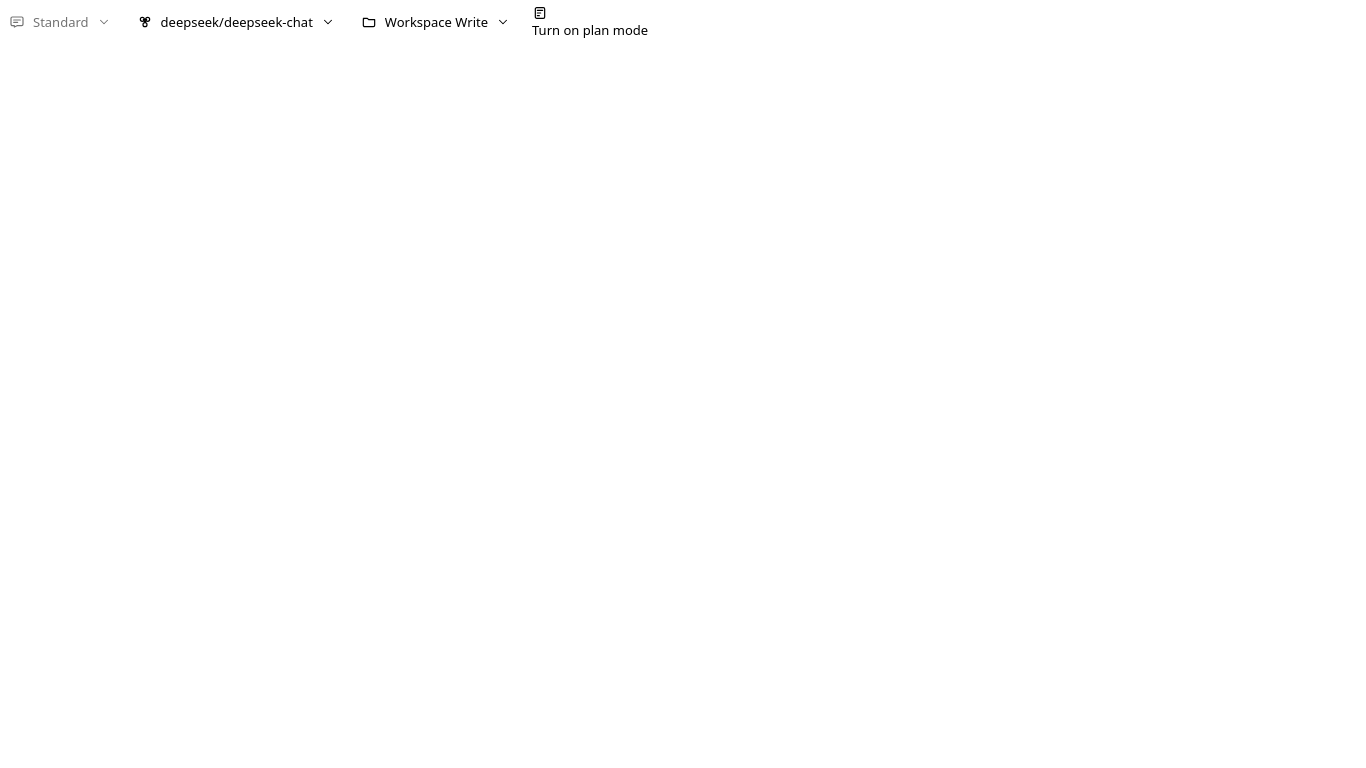
Test: SessionControls › dismisses the full-access prompt on Escape without touching the permission
Click the button with aria-label "Access: Workspace Write" at (435, 22), box [352,8,519,37]
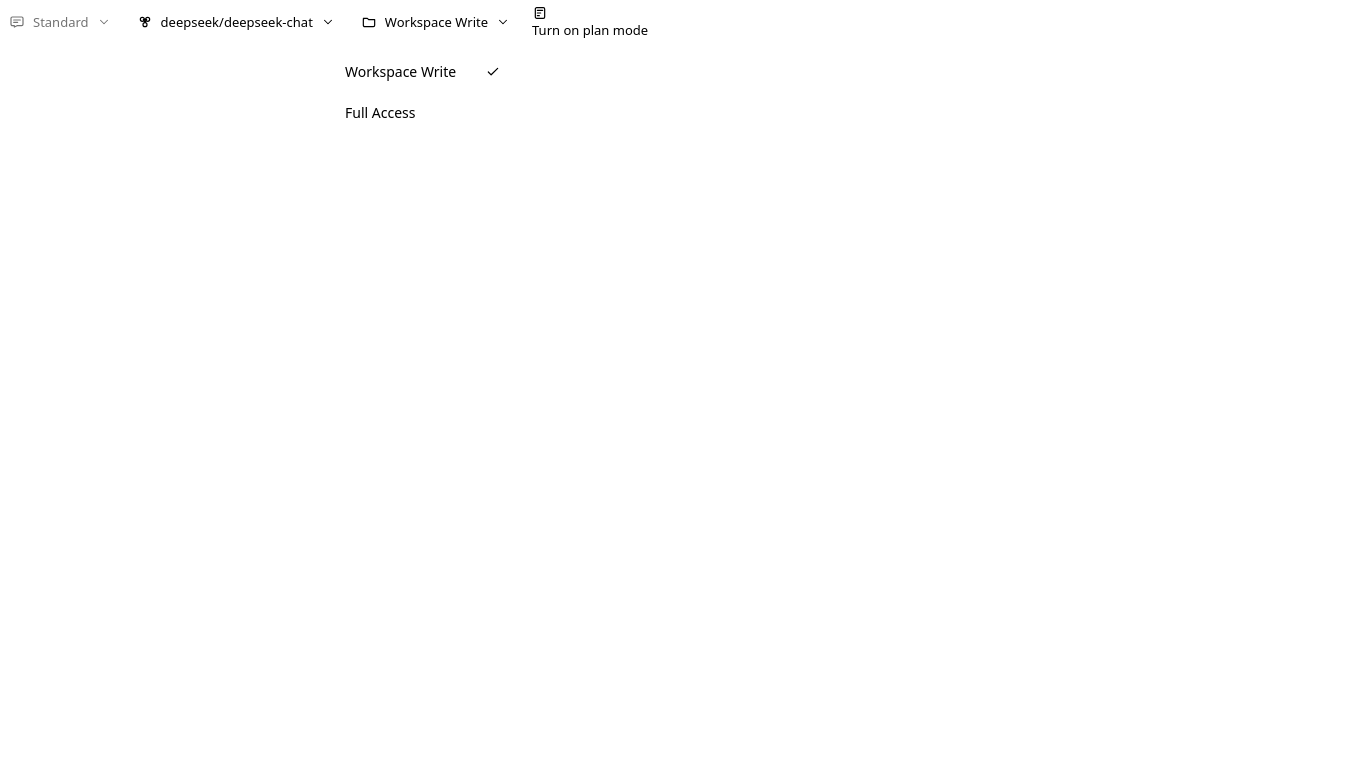
Click the option "Full Access" at (423, 113), box [336,95,510,132]
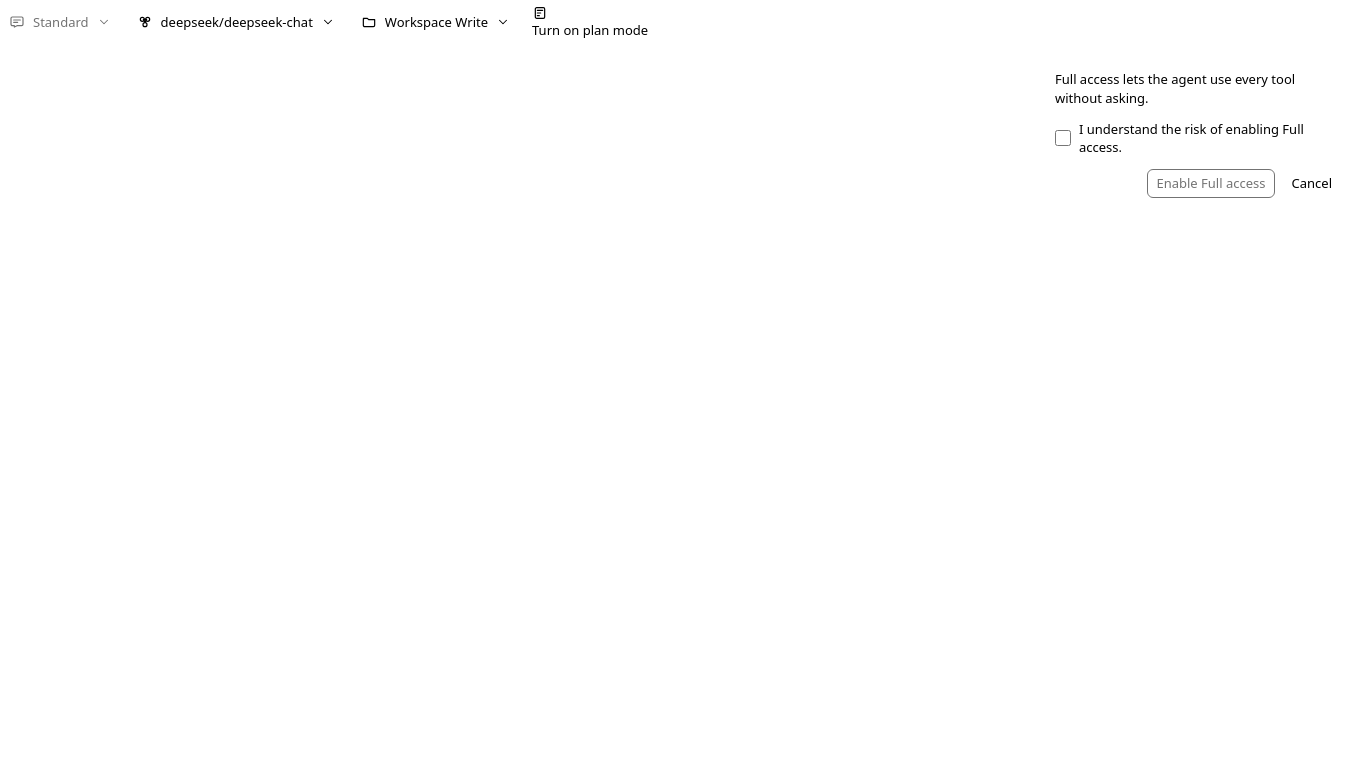
Click the checkbox at (1063, 138), box [1055,130,1071,146]
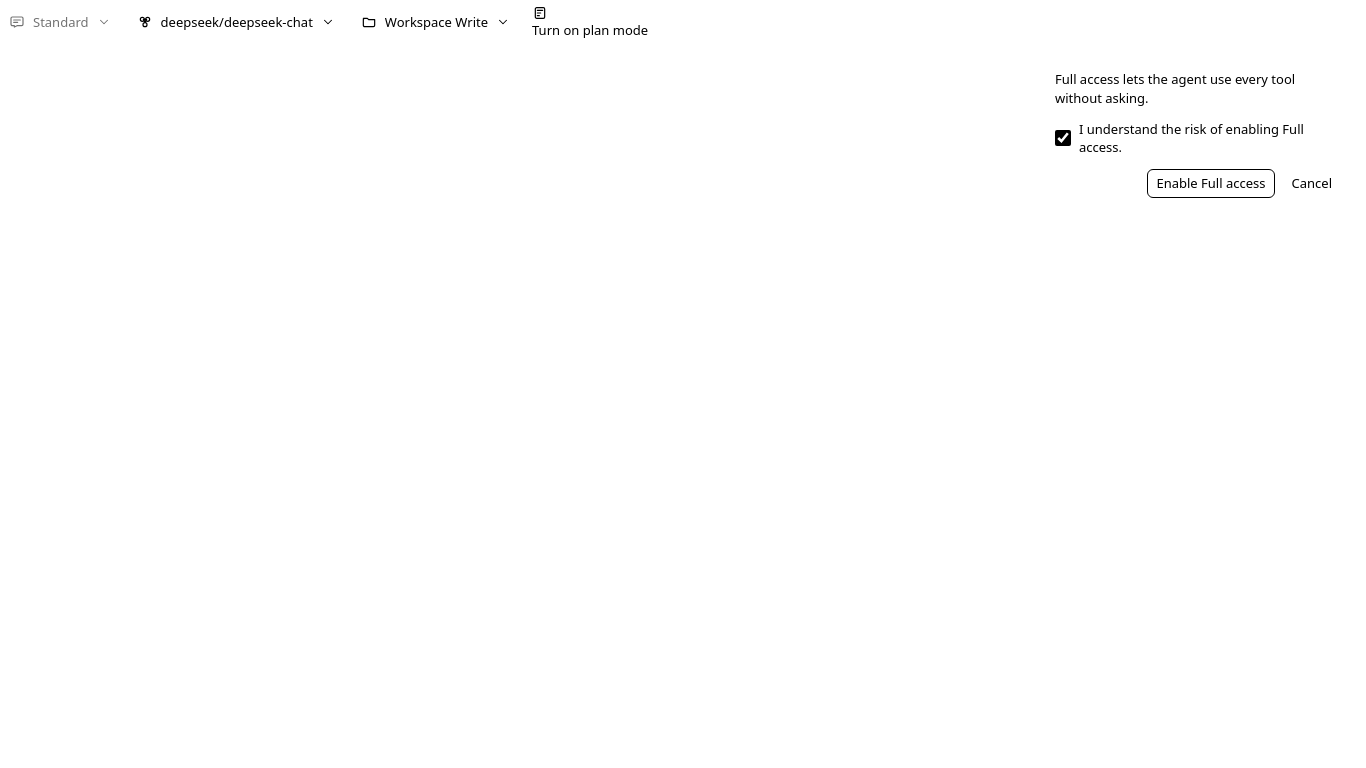
Expected: the dialog named "Enable Full access?" is shown, [1038,53,1358,215]
Press Escape
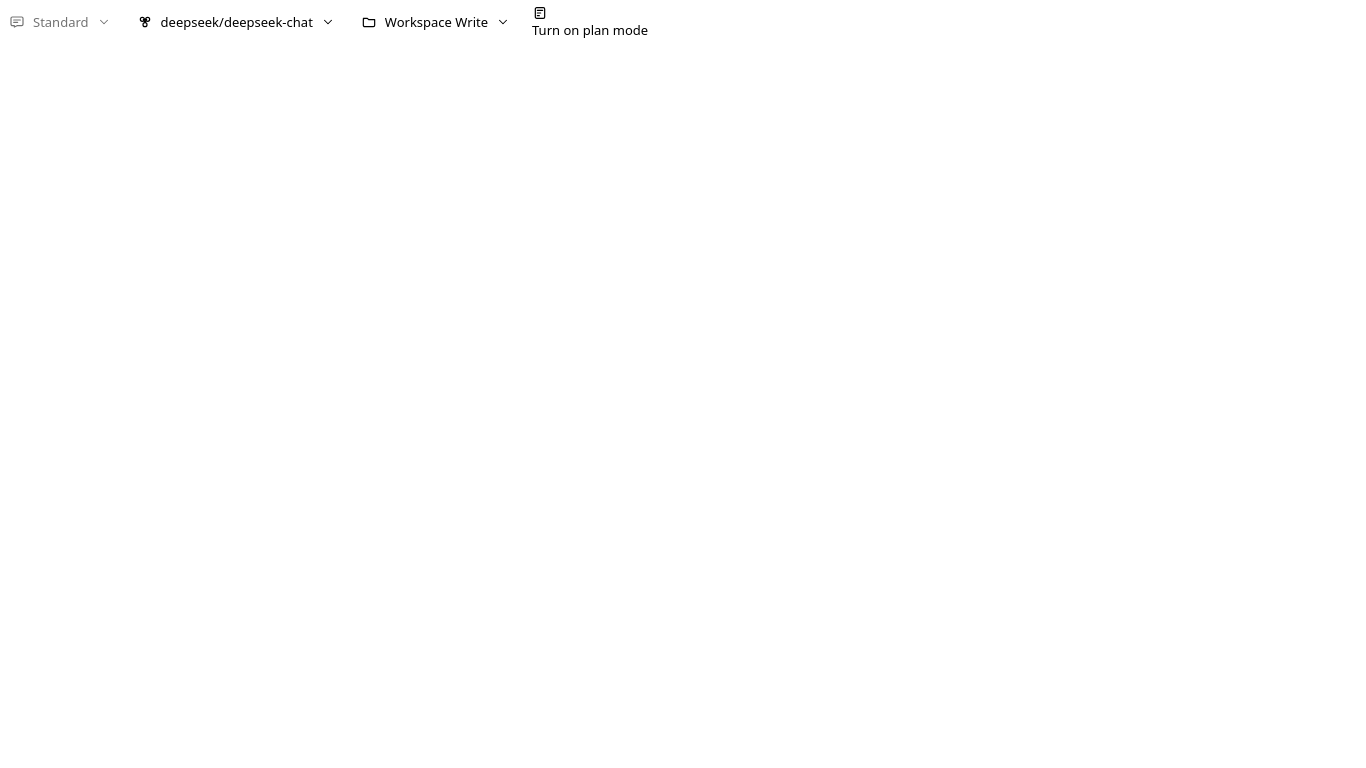
Expected: the dialog is gone
